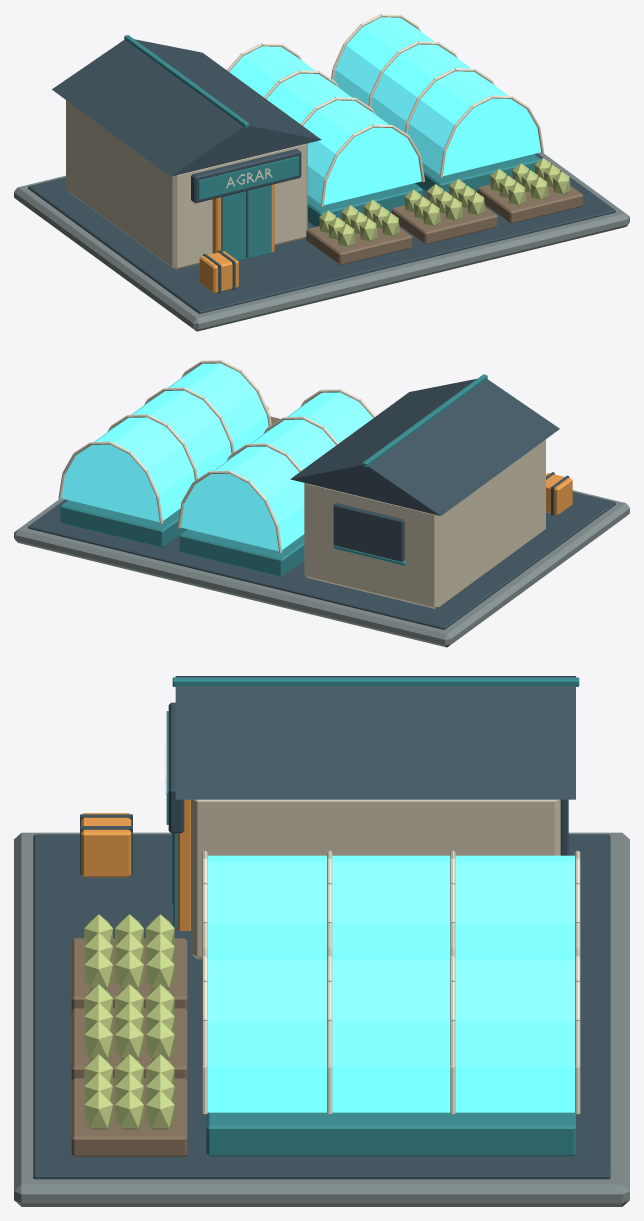
The model's file is farm.glb.
The picture shows the model from 3 angles, top to bottom: view 1: azimuth 30°, elevation 25°; view 2: azimuth 150°, elevation 25°; view 3: azimuth 270°, elevation 25°; orthographic projection. The views are drawn at different scales.
Parts seen in each view (by area): view 1: farm; view 2: farm; view 3: farm.
Boxes of the visible parts, x1,y1,x2,y2 form: farm: [14, 14, 629, 331]; farm: [14, 360, 629, 647]; farm: [14, 676, 629, 1206].
Bounding box in the file's own units: 11 × 3.65 × 8.
